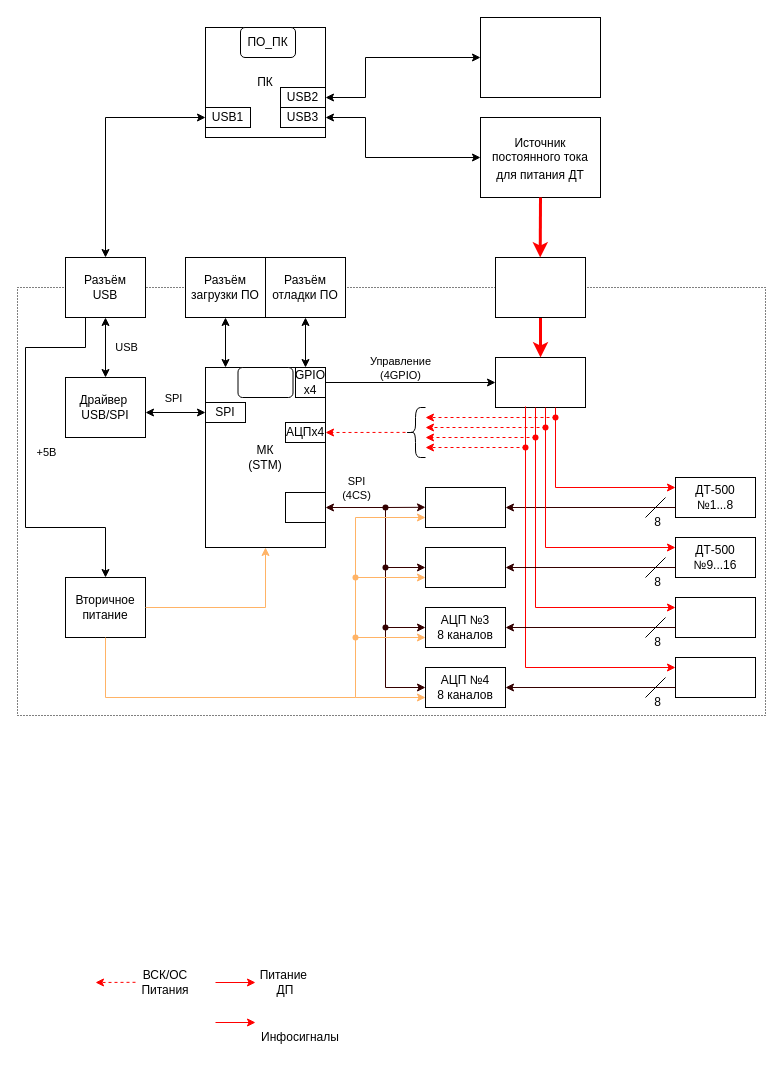
Some shapes in this 783 by 1070 pixel diagram are drawn without their labels. Each missing label, with the centre of its shape:
SPI 4xCS: point (305, 507)
АЦП №1 8 каналов: point (465, 507)
АЦП №2 8 каналов: point (465, 567)
ДТ-500 №17...24: point (715, 617)
ДТ-500 №25...32: point (715, 677)
Источник постоянного измеряемого тока: point (540, 57)
Ключи питания ДТ №1..4: point (540, 382)
ПО_МК: point (265, 382)
Разъём Питания ДТ: point (540, 287)
